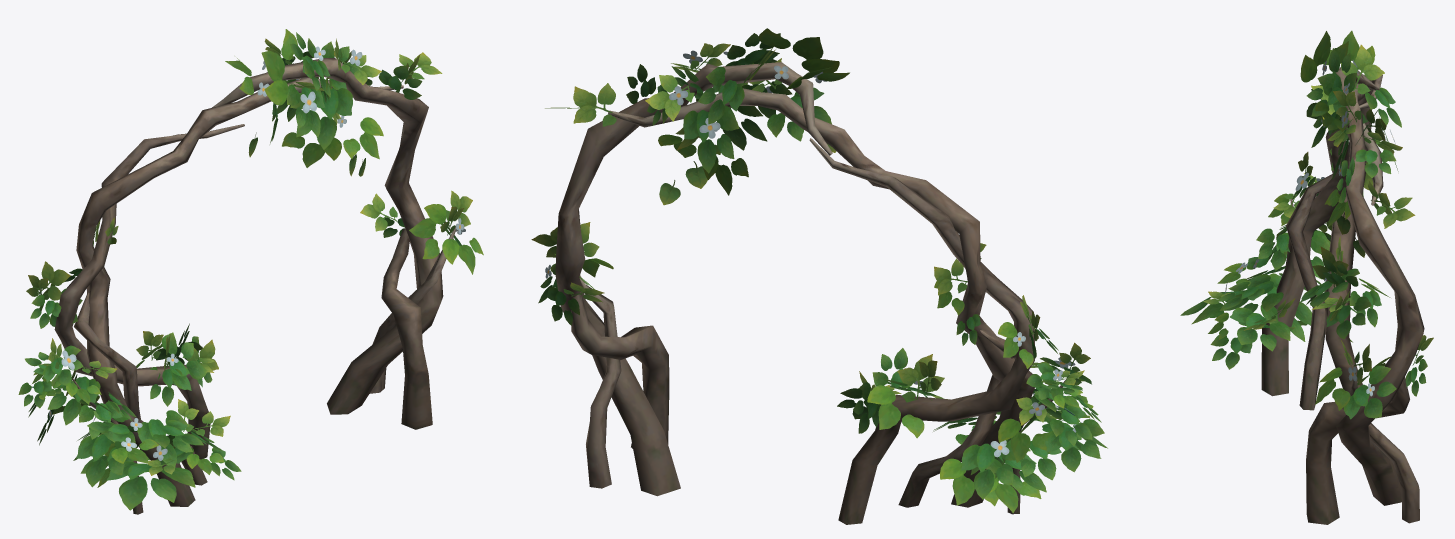
The model's file is Homeworld_General_Common_Thing_Prop_Irodori_Bcackforward_04_Vo.fbx.
3 views of the same model, side by side, from view 1: azimuth 30°, elevation 25°; view 2: azimuth 150°, elevation 25°; view 3: azimuth 270°, elevation 25° (orthographic). The views are drawn at different scales.
Parts seen in each view (by area): view 1: Homeworld_General_Common_Thing_Prop_Irodori_Bcackforward_04_; view 2: Homeworld_General_Common_Thing_Prop_Irodori_Bcackforward_04_; view 3: Homeworld_General_Common_Thing_Prop_Irodori_Bcackforward_04_.
Part boxes in pixels (x1,y1,x2,y2): Homeworld_General_Common_Thing_Prop_Irodori_Bcackforward_04_: [18, 29, 483, 514]; Homeworld_General_Common_Thing_Prop_Irodori_Bcackforward_04_: [531, 28, 1107, 524]; Homeworld_General_Common_Thing_Prop_Irodori_Bcackforward_04_: [1180, 30, 1433, 524].
Size of the model in its own units: 0.9011 by 0.748 by 0.4443.
